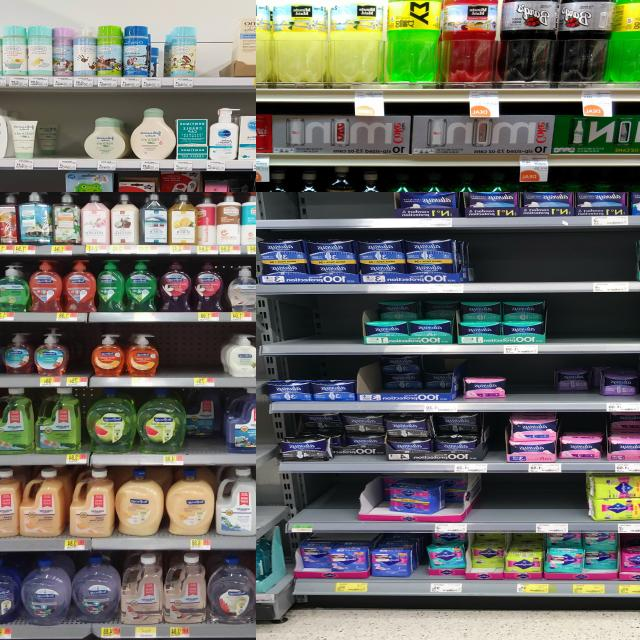100- O.O.S: (475, 234, 635, 292), (487, 473, 582, 533), (549, 296, 640, 352), (280, 295, 361, 353), (291, 473, 359, 532), (161, 324, 219, 386), (299, 192, 390, 228), (506, 355, 553, 411), (195, 26, 221, 88), (56, 108, 82, 170), (68, 326, 92, 386), (29, 174, 62, 192)
